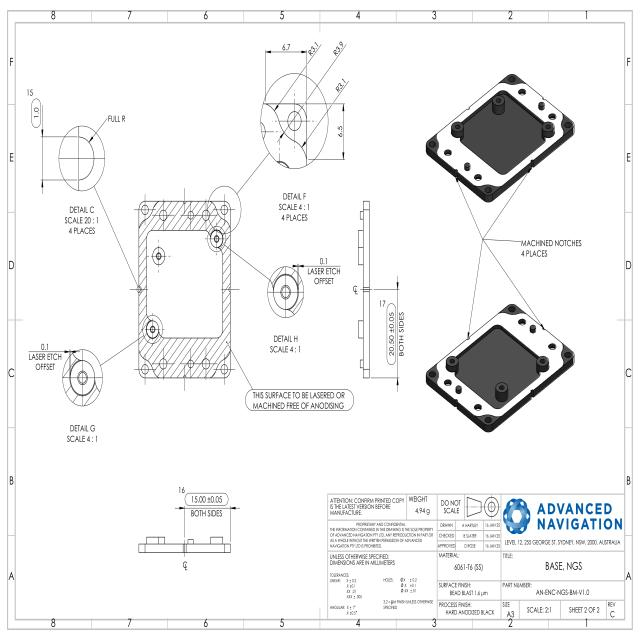dimension: (387, 308, 396, 359), (190, 494, 223, 504), (332, 38, 345, 57), (307, 40, 320, 57), (336, 75, 347, 94), (108, 114, 126, 123), (319, 256, 330, 266), (40, 342, 51, 351), (282, 42, 291, 52), (34, 106, 40, 120), (337, 125, 343, 139)
